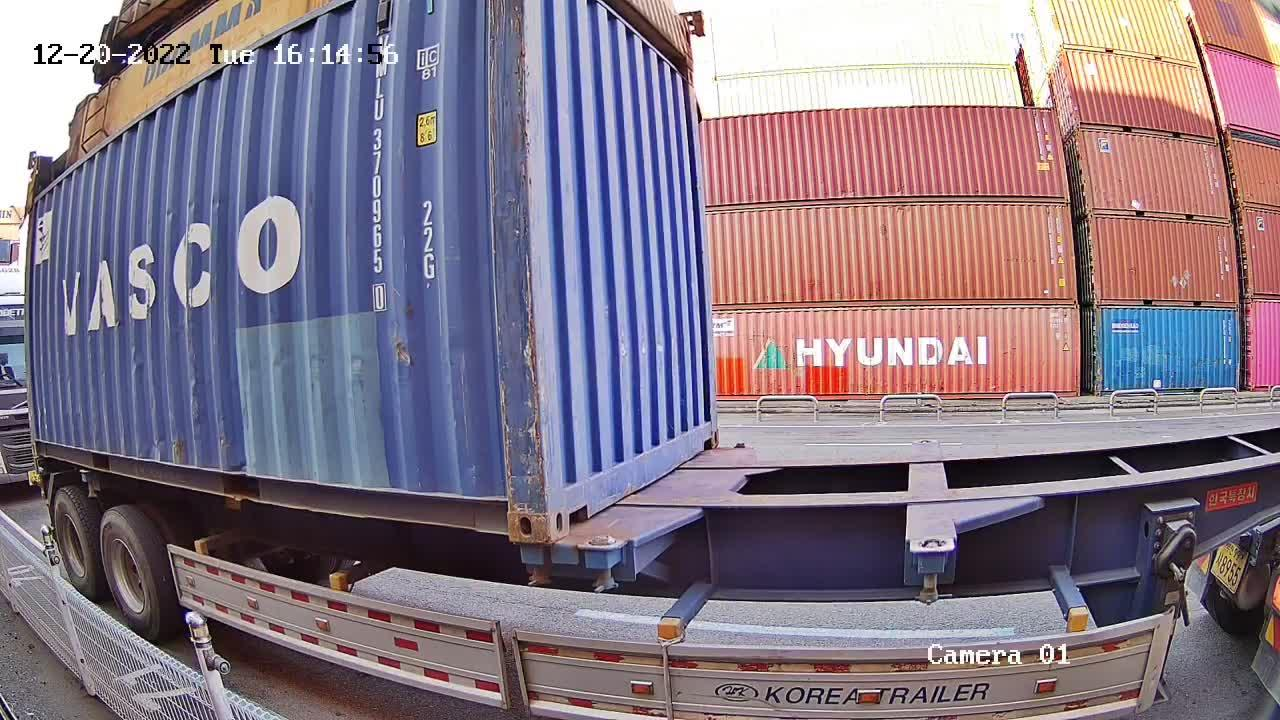Chassis: (581, 445, 756, 552)
Cone: (584, 536, 620, 594), (510, 540, 547, 587)
Hole_L: (546, 458, 597, 542)
Hole_R: (472, 475, 546, 544), (684, 408, 720, 458)
Tire: (99, 511, 162, 637), (53, 494, 89, 584)
